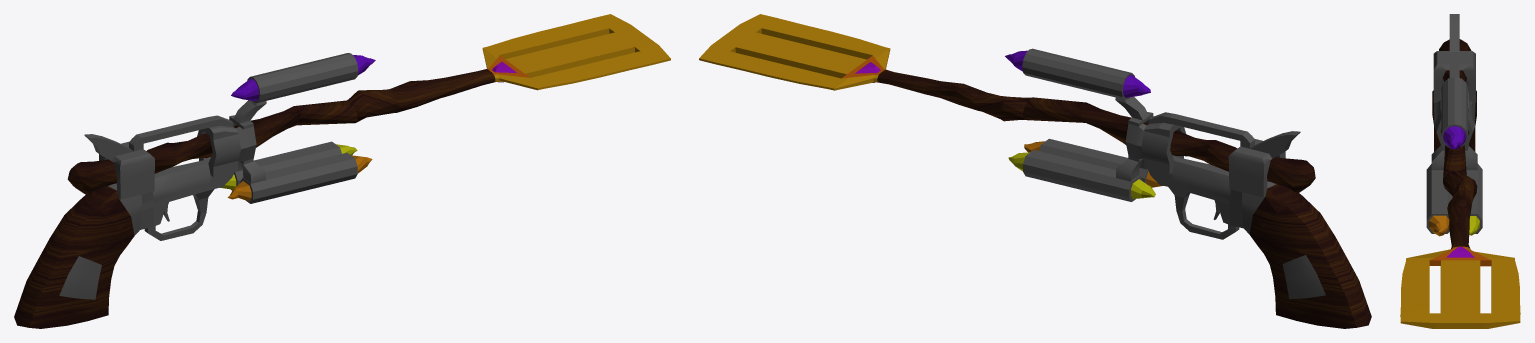
Rendered from Gunwand.fbx.
3 views of the same model, side by side, from view 1: azimuth 30°, elevation 25°; view 2: azimuth 150°, elevation 25°; view 3: azimuth 270°, elevation 25° (orthographic). The views are drawn at different scales.
Visible parts, largest first — view 1: Gun, Wand; view 2: Gun, Wand; view 3: Wand, Gun.
Part boxes in pixels (x1,y1,x2,y2): Gun: [14, 53, 375, 328]; Wand: [67, 14, 670, 194]; Gun: [1005, 48, 1371, 328]; Wand: [699, 14, 1315, 192]; Wand: [1400, 39, 1520, 328]; Gun: [1426, 14, 1482, 236].
Size of the model in its own units: 2113 by 639 by 351.
9 materials, 2 textured.
